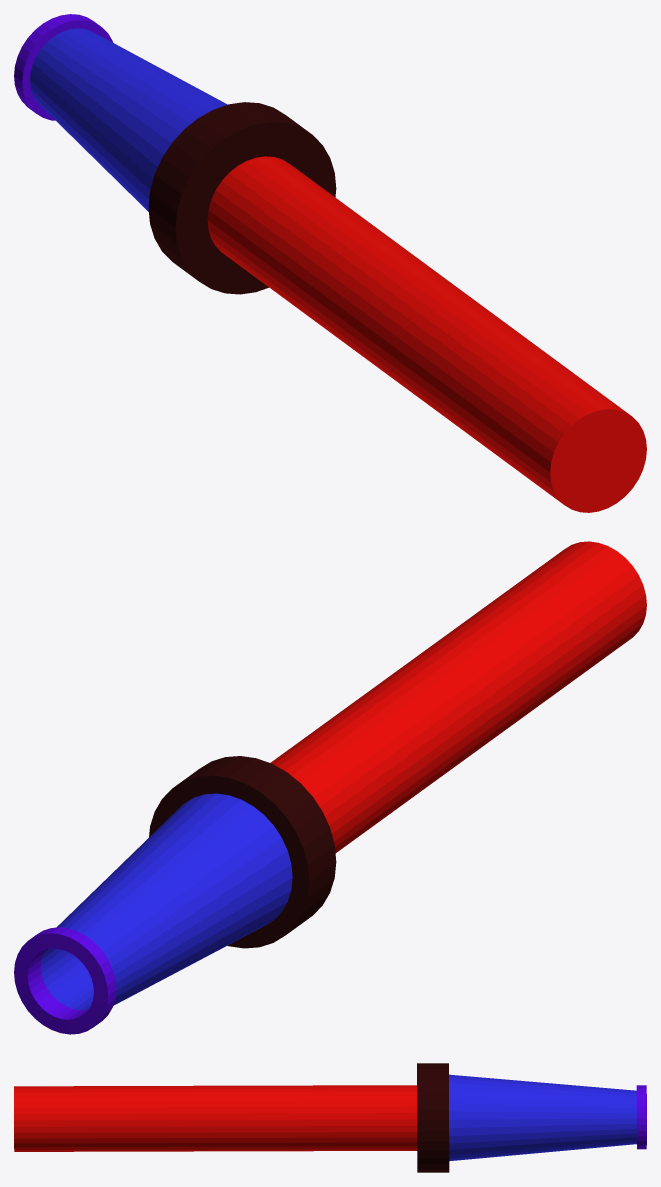
3 views of the same model, one above another, from view 1: azimuth 30°, elevation 25°; view 2: azimuth 150°, elevation 25°; view 3: azimuth 270°, elevation 25° (orthographic). The views are drawn at different scales.
Visible parts, largest first — view 1: Cylinder; view 2: Cylinder; view 3: Cylinder.
Part boxes in pixels (<box>): Cylinder: <box>14,14,646,512</box>; Cylinder: <box>14,541,646,1034</box>; Cylinder: <box>14,1063,646,1172</box>.
Bounding box in the file's own units: 200 × 200 × 1159.
